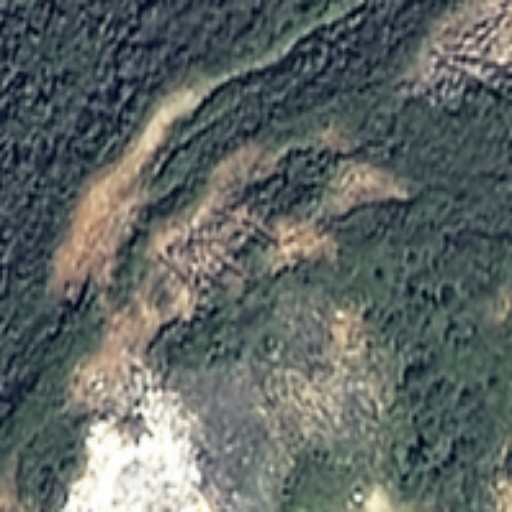landslide: (53, 90, 410, 419)
